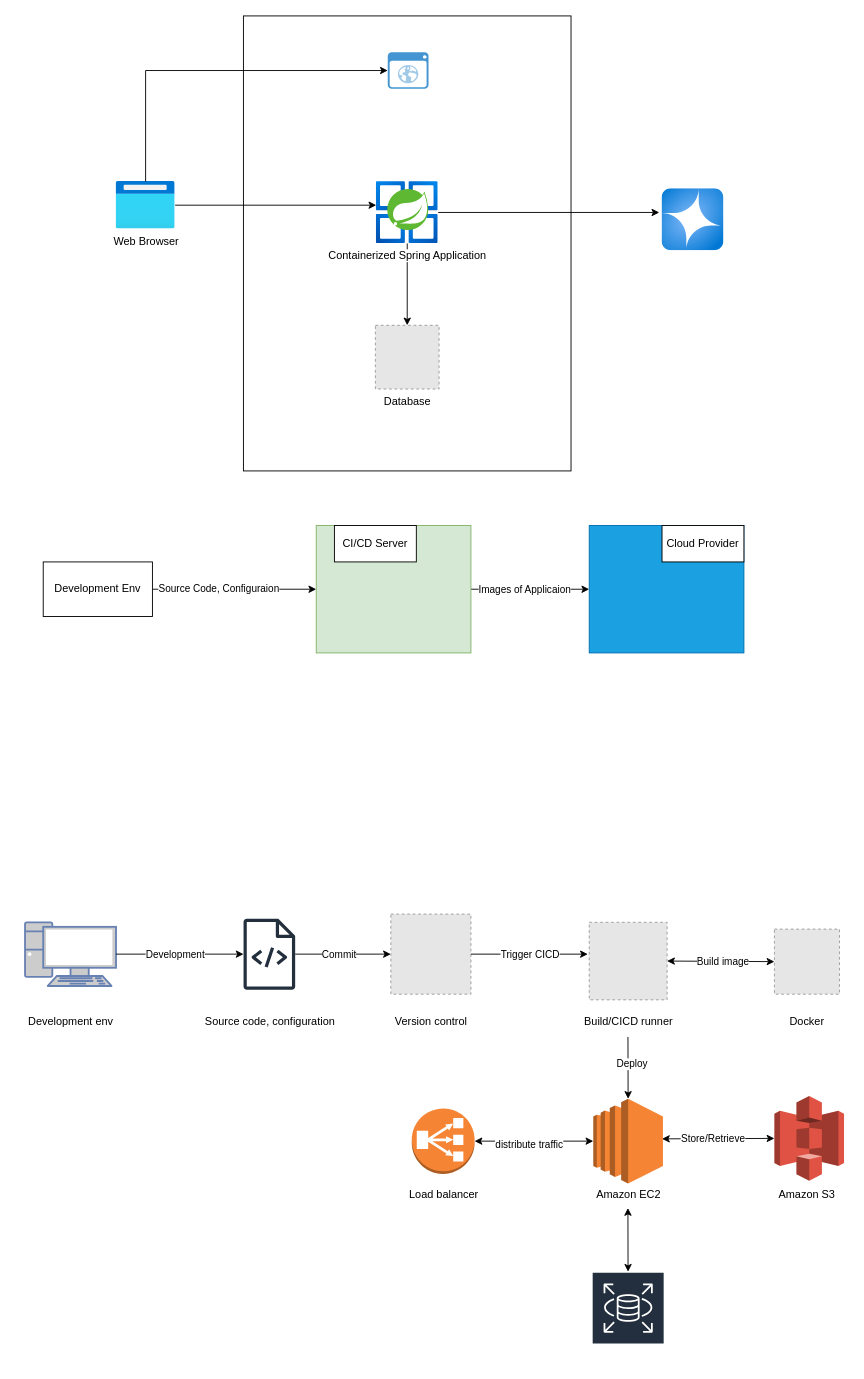
The diagram is 864 pixels wide and 1379 high, and some of its shapes have lost their labels. Grey dashed boxes stand in for pictures. Here are the shapes that lost their labels. From the top down, the centre of each, then its label:
At point (407, 70): "Containerized React Application".
At point (692, 219): "Open AI".
At point (628, 1317): "Amazon RDS".
